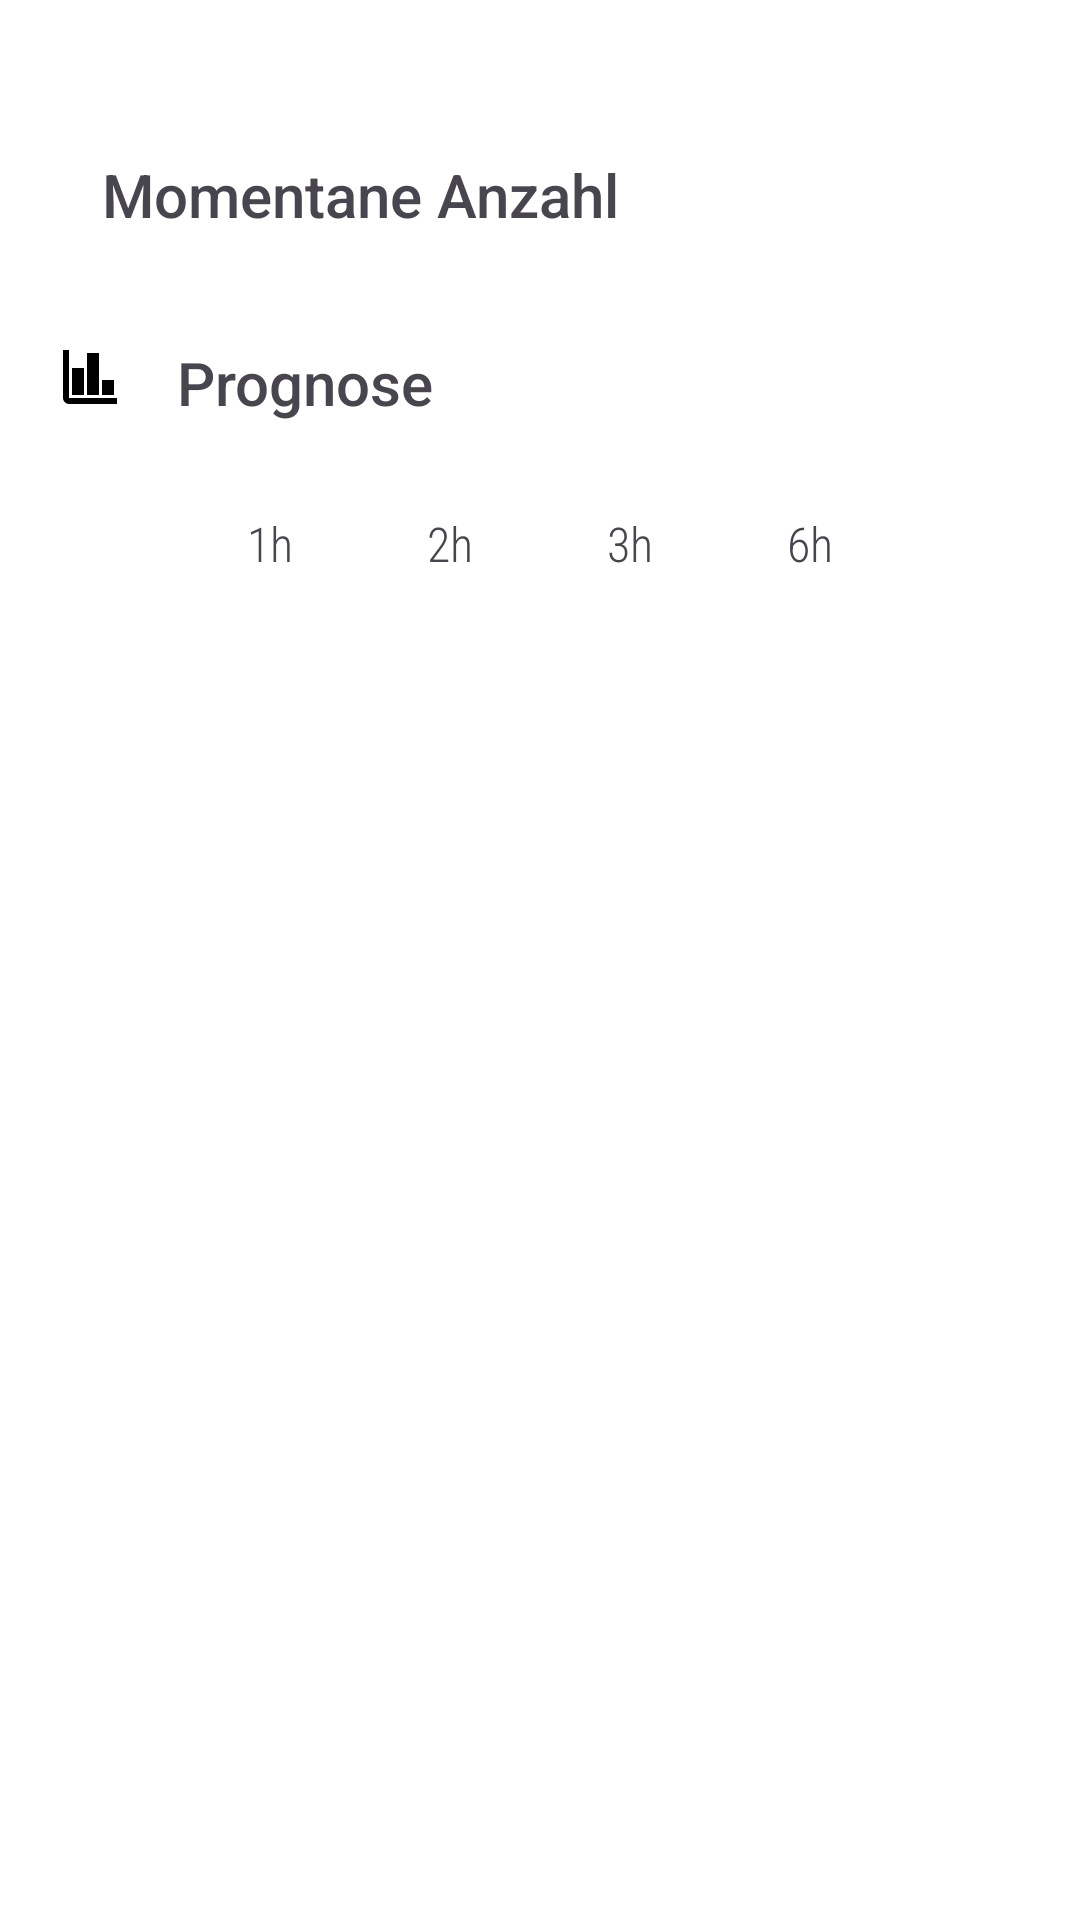

Icon click points for this 1080w x 1920h phone screenshot, format (x=x, y=y):
finance: (x=90, y=377)
